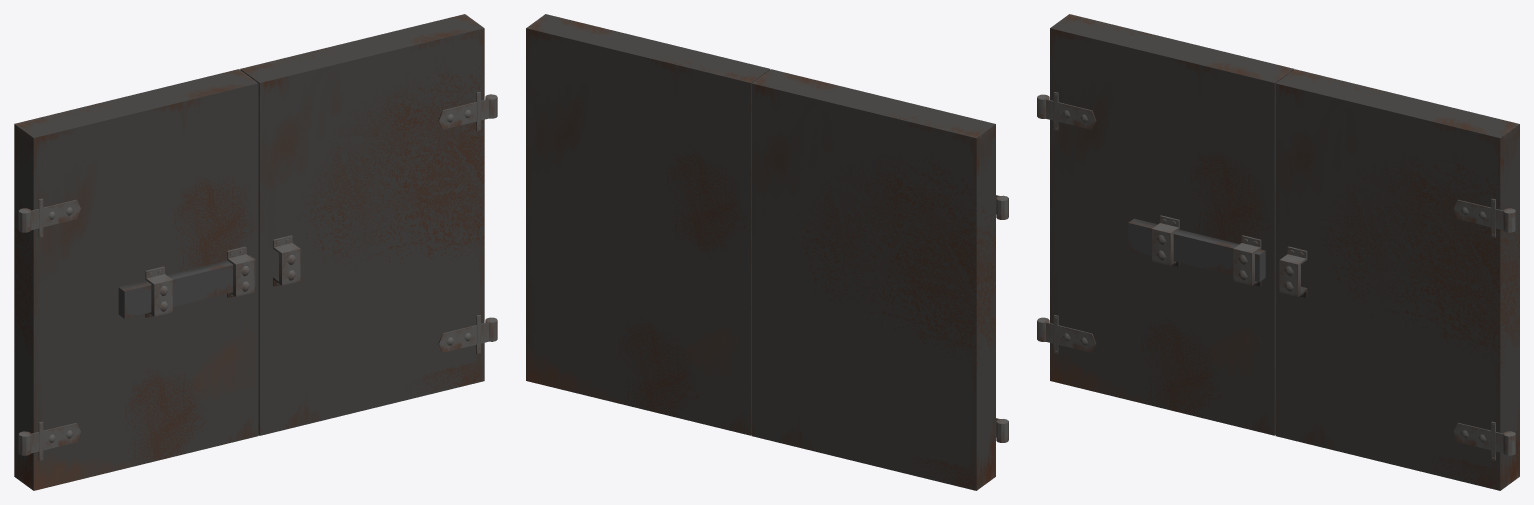
The model's file is Prison_Door.fbx.
3 renders of one model, left to right at view 1: azimuth 30°, elevation 25°; view 2: azimuth 150°, elevation 25°; view 3: azimuth 330°, elevation 25°, orthographic.
Visible parts, largest first — view 1: Syuuseityuu:Prison_Door:pCube1, Syuuseityuu:Prison_Door:pCube7, Syuuseityuu:Prison_Door:pCube3, Syuuseityuu:Prison_Door:pCylinder15, pCylinder15, pCylinder16, pCylinder17, pCube7, Syuuseityuu:Prison_Door:pCube6, pCube6; view 2: Syuuseityuu:Prison_Door:pCube1, Syuuseityuu:Prison_Door:pCube7; view 3: Syuuseityuu:Prison_Door:pCube7, Syuuseityuu:Prison_Door:pCube1, Syuuseityuu:Prison_Door:pCube3, pCylinder16, pCylinder17, Syuuseityuu:Prison_Door:pCylinder15, pCylinder15, pCube7, pCube6, Syuuseityuu:Prison_Door:pCube6.
Part boxes in pixels (box(x1,y1,x2,y2)): Syuuseityuu:Prison_Door:pCube1: box(14, 69, 258, 490); Syuuseityuu:Prison_Door:pCube7: box(240, 14, 484, 435); Syuuseityuu:Prison_Door:pCube3: box(118, 255, 255, 318); Syuuseityuu:Prison_Door:pCylinder15: box(18, 198, 80, 237); pCylinder15: box(18, 421, 80, 460); pCylinder16: box(438, 315, 497, 353); pCylinder17: box(438, 92, 497, 130); pCube7: box(273, 235, 300, 286); Syuuseityuu:Prison_Door:pCube6: box(145, 266, 172, 317); pCube6: box(227, 246, 254, 297); Syuuseityuu:Prison_Door:pCube1: box(751, 69, 995, 490); Syuuseityuu:Prison_Door:pCube7: box(526, 14, 770, 435); Syuuseityuu:Prison_Door:pCube7: box(1275, 69, 1519, 490); Syuuseityuu:Prison_Door:pCube1: box(1050, 14, 1294, 435); Syuuseityuu:Prison_Door:pCube3: box(1128, 218, 1265, 281); pCylinder16: box(1453, 421, 1515, 460); pCylinder17: box(1453, 198, 1515, 237); Syuuseityuu:Prison_Door:pCylinder15: box(1037, 92, 1096, 130); pCylinder15: box(1037, 315, 1096, 353); pCube7: box(1279, 246, 1307, 297); pCube6: box(1233, 235, 1261, 286); Syuuseityuu:Prison_Door:pCube6: box(1152, 215, 1179, 266).
Size of the model in its own units: 212 by 150 by 23.66.
